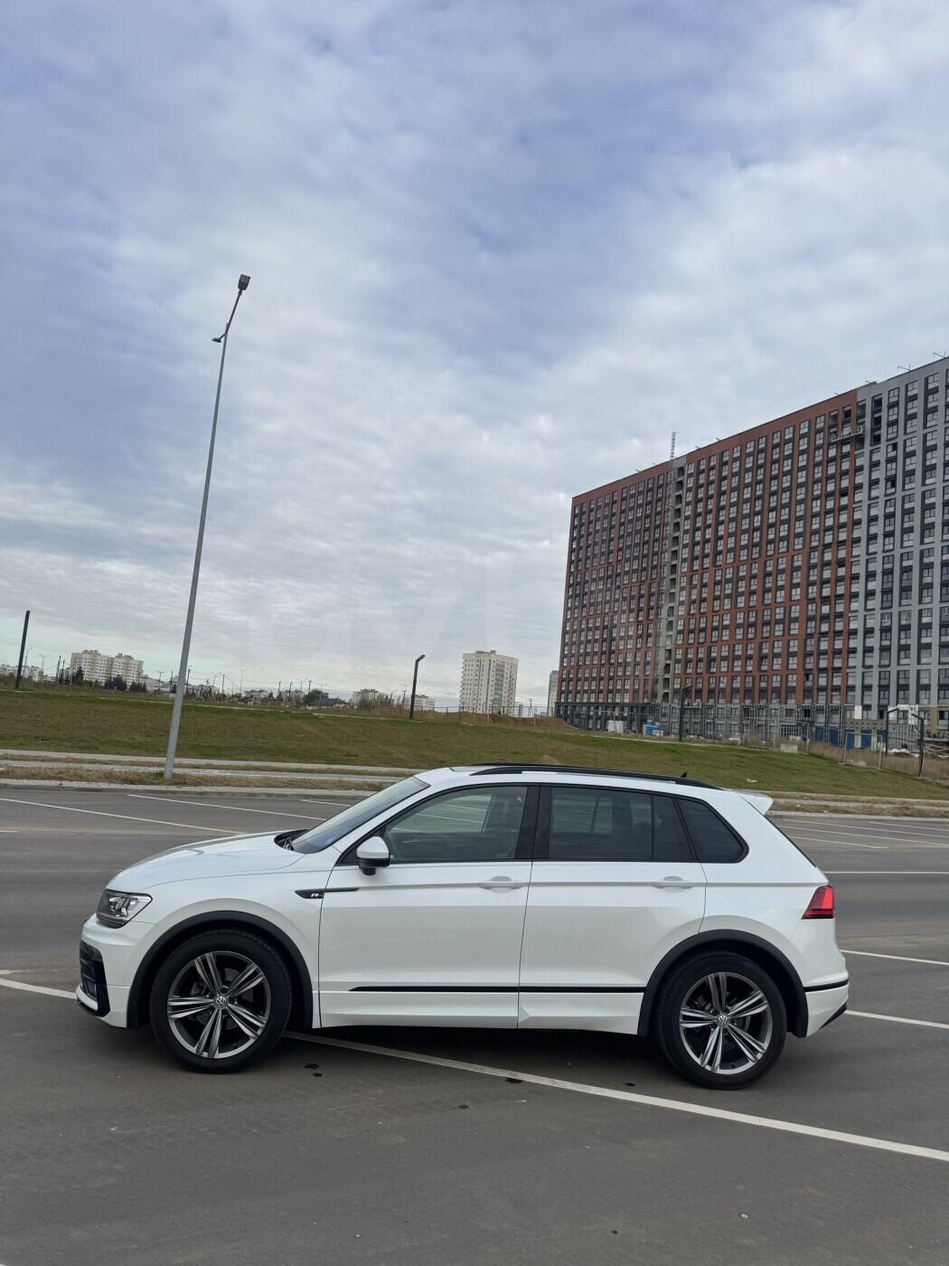Tiguan_2016-2021: (78, 765, 871, 1116)
